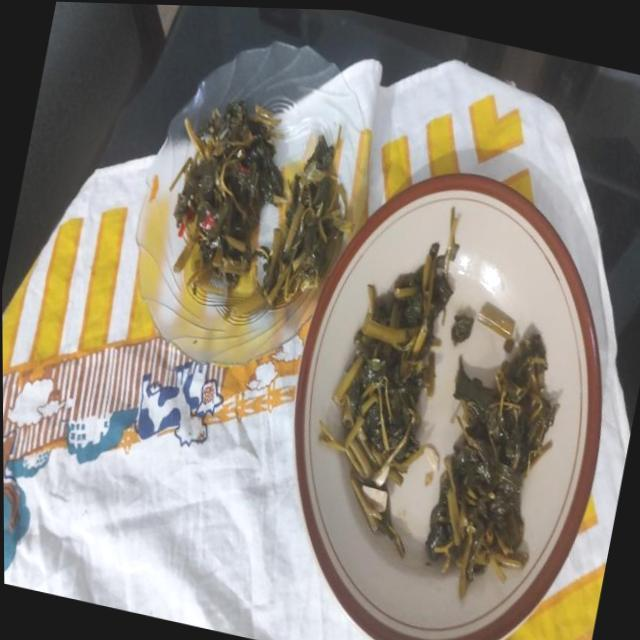tumis_kangkung: (426, 324, 559, 598), (342, 235, 460, 510), (174, 100, 284, 286), (262, 126, 348, 305)
